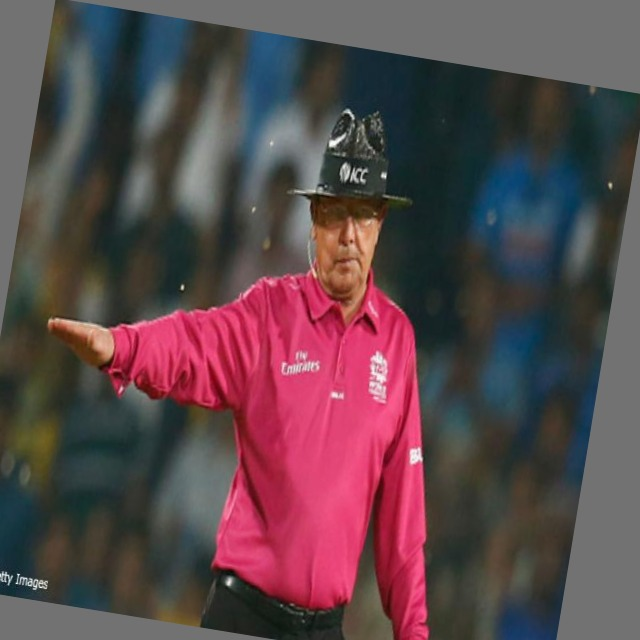No_Ball: (0, 44, 520, 640)
